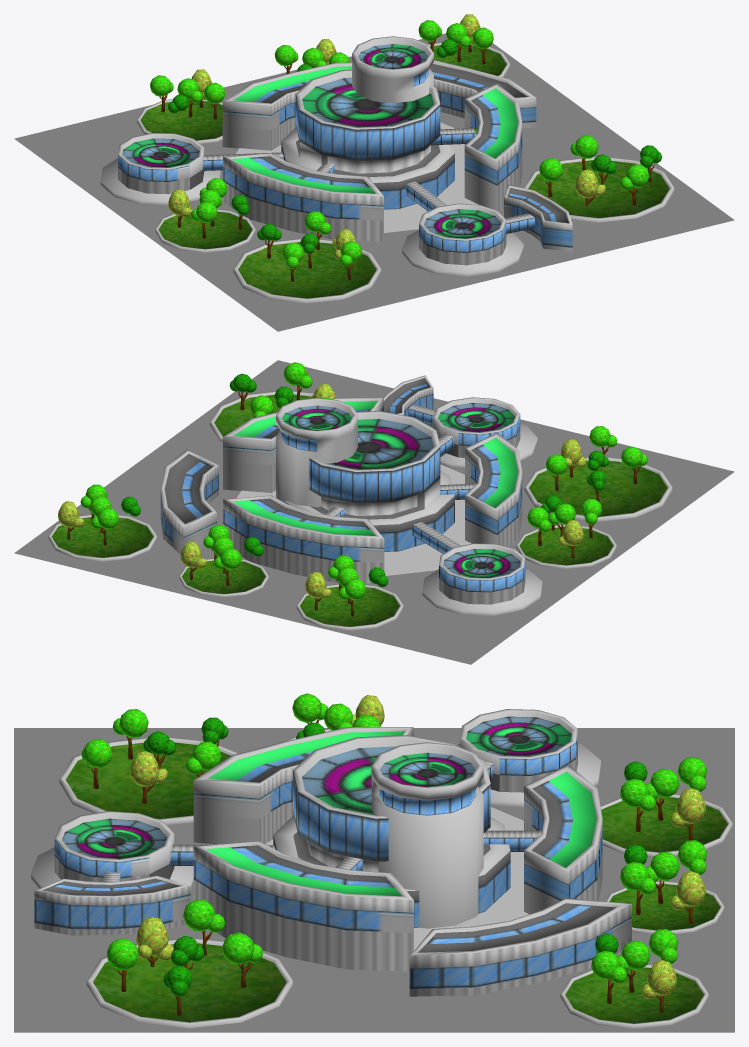
File: appdeveloper_LV2.fbx
3 renders of one model, top to bottom at view 1: azimuth 30°, elevation 25°; view 2: azimuth 150°, elevation 25°; view 3: azimuth 270°, elevation 25°, orthographic. The views are drawn at different scales.
Visible parts, largest first — view 1: app developer lv 2; view 2: app developer lv 2; view 3: app developer lv 2.
Boxes of the visible parts, x1,y1,x2,y2 form: app developer lv 2: (14,14,734,331); app developer lv 2: (14,360,734,664); app developer lv 2: (14,693,734,1032).
Bounding box in the file's own units: 180 × 41.14 × 180.
